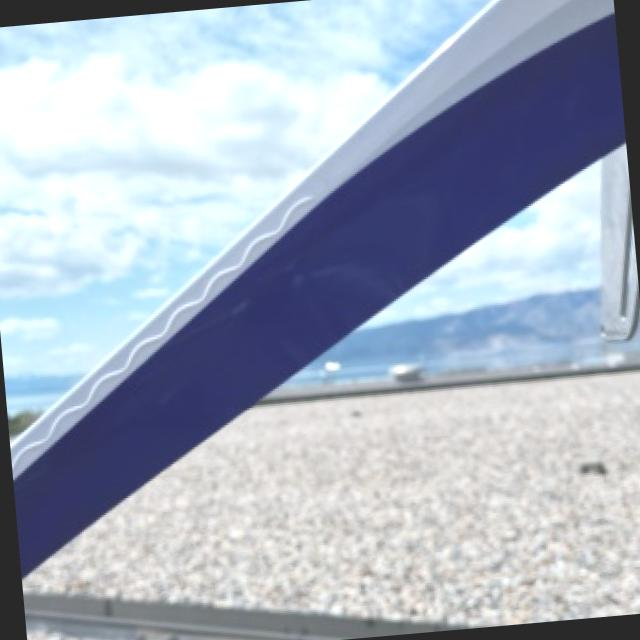healthy: (52, 373, 640, 620)
